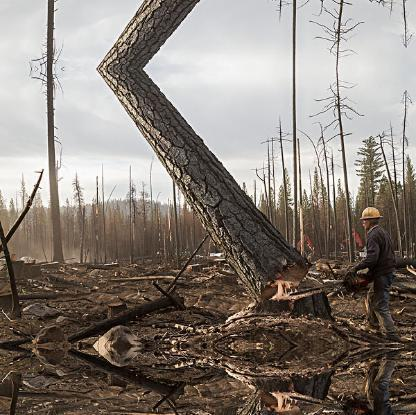helmet: (358, 206, 386, 226)
